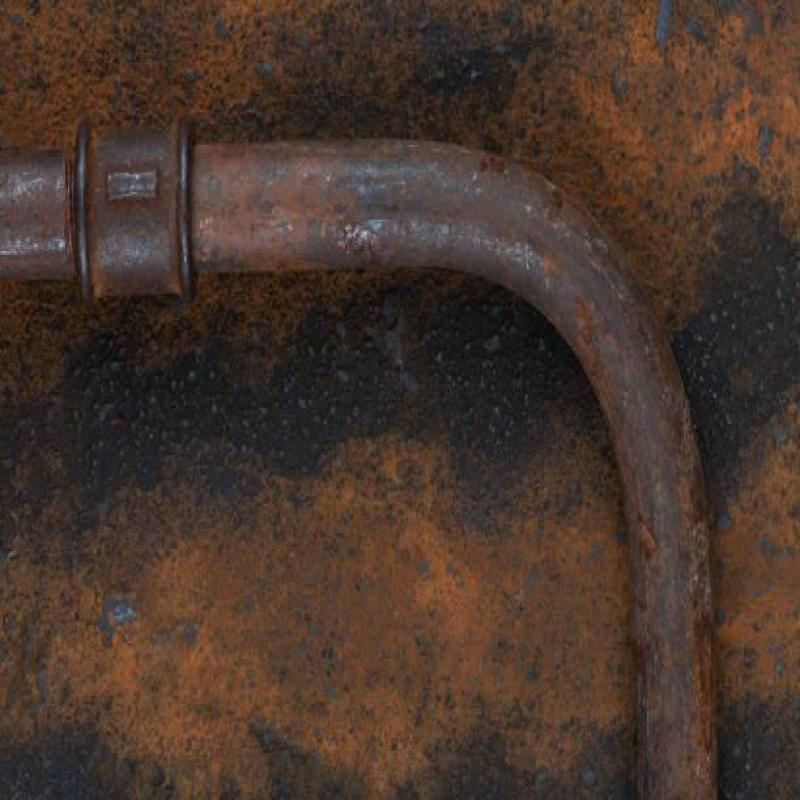corrosion: (0, 118, 592, 310), (614, 369, 729, 796)
